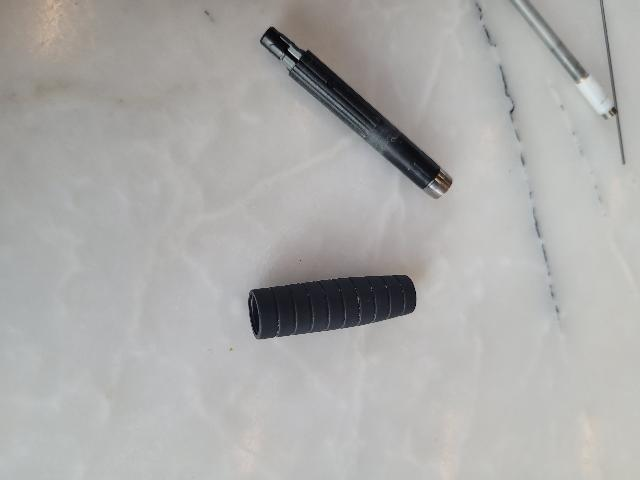Plastik: (258, 23, 453, 204), (504, 0, 624, 135), (233, 271, 424, 346)
